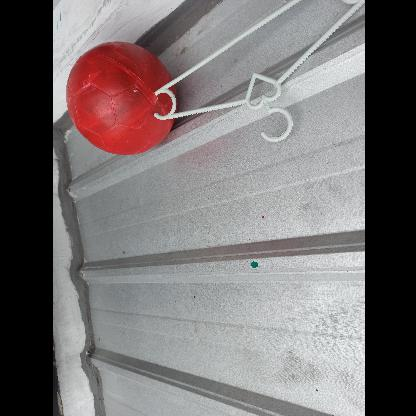red_ball: (60, 40, 176, 156)
